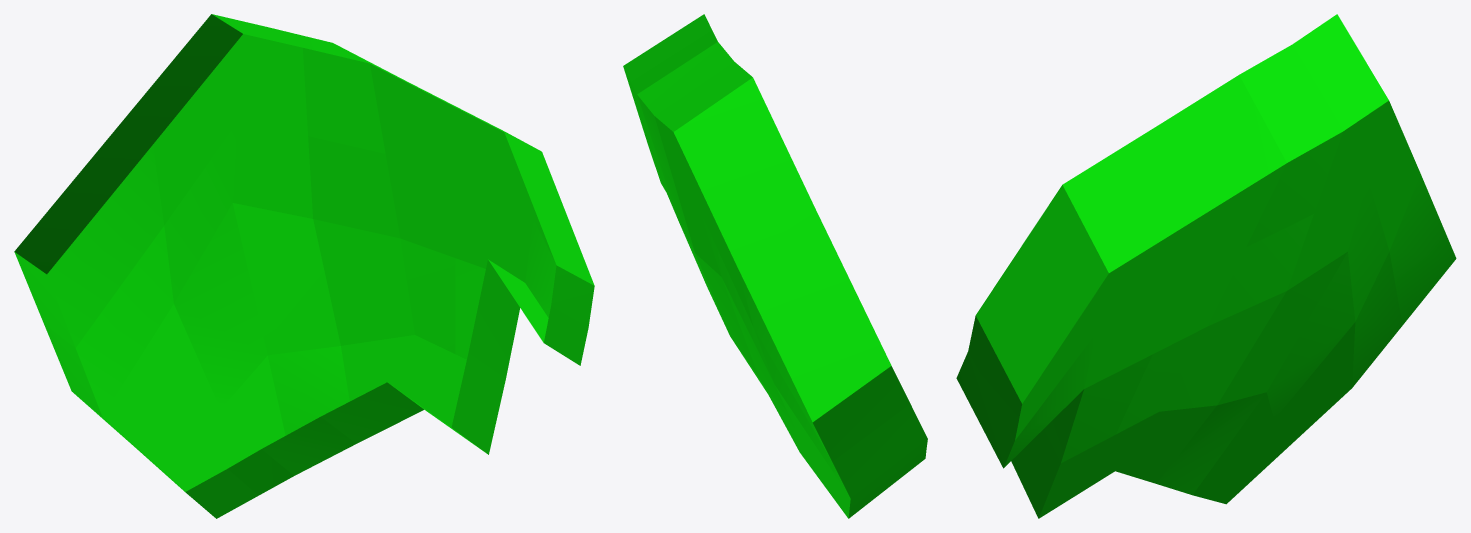
File: Planet_C_Australia.fbx
3 renders of one model, left to right at view 1: azimuth 30°, elevation 25°; view 2: azimuth 150°, elevation 25°; view 3: azimuth 270°, elevation 25°, orthographic. The views are drawn at different scales.
Parts seen in each view (by area): view 1: Continent4; view 2: Continent4; view 3: Continent4.
Boxes of the visible parts, <box> form: Continent4: <box>14,14,594,518</box>; Continent4: <box>623,14,927,518</box>; Continent4: <box>956,14,1456,518</box>.
Size of the model in its own units: 735 by 785 by 692.
